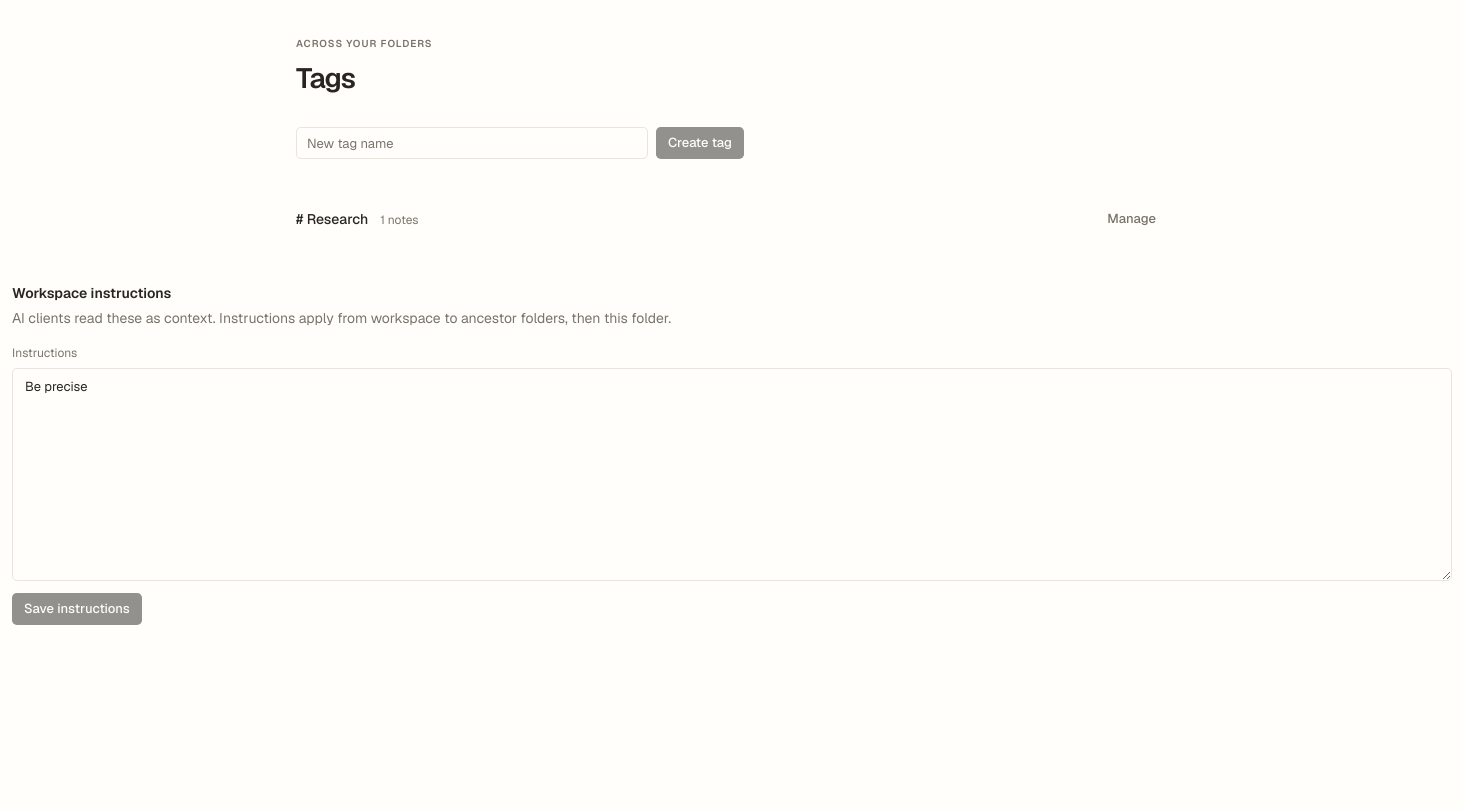
Test case: persisted workspace navigation › shows real tag counts and persists instructions
This screenshot has width=1464, height=810.
Type ". Cite sources." into the text box labelled "Instructions" at (732, 474), box [12,368,1452,581]
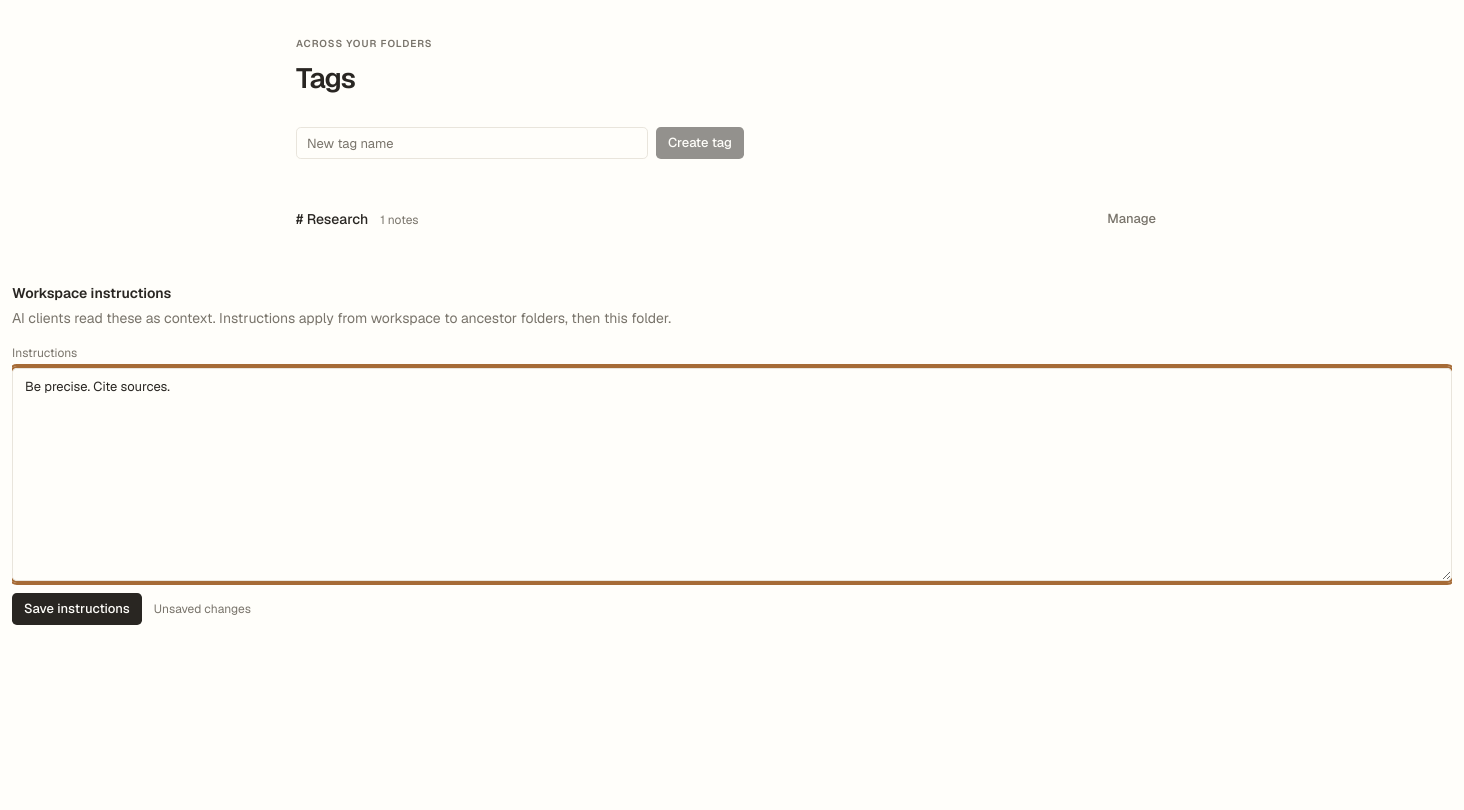
Click the button "Save instructions" at (77, 609), box [12,593,142,625]
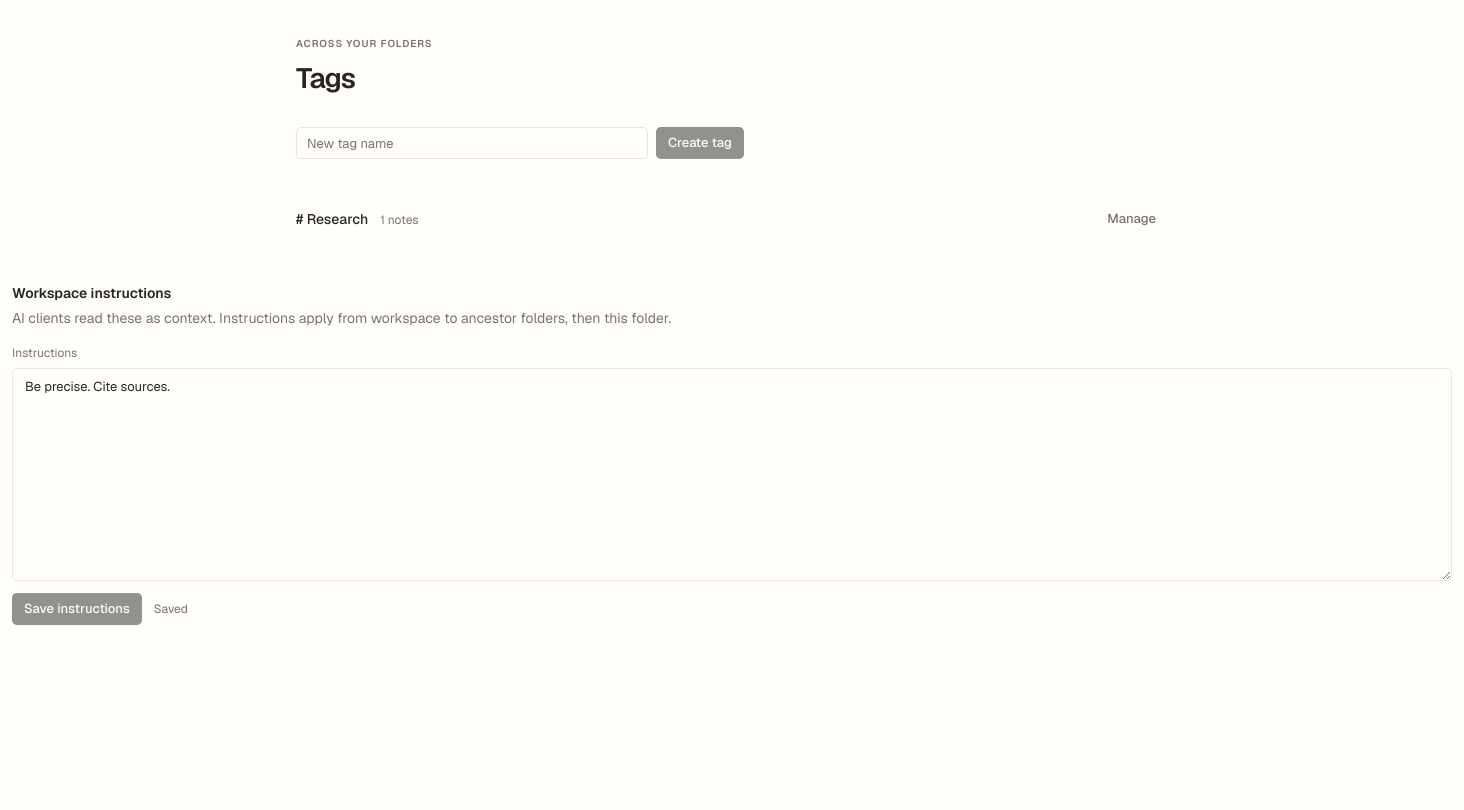
Check: the message reads "Saved", box [154,601,188,617]
